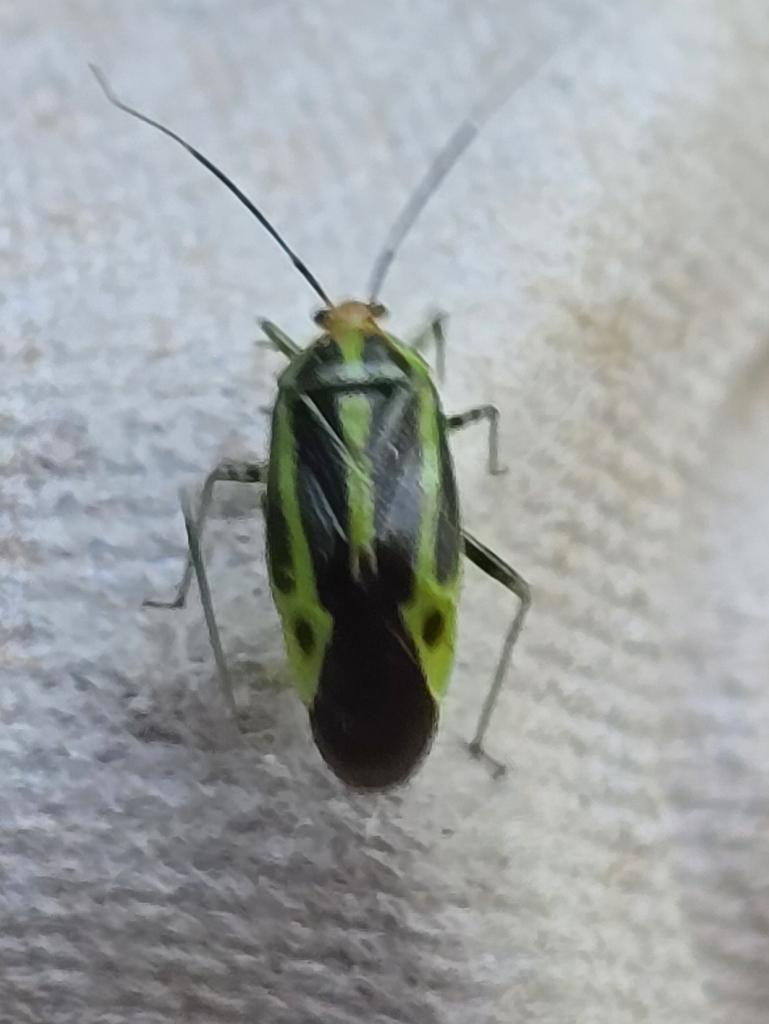plant_bugs: (37, 3, 643, 854)
